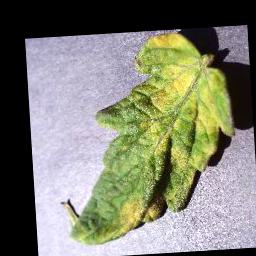Leaf_Mold: (58, 29, 241, 246)
